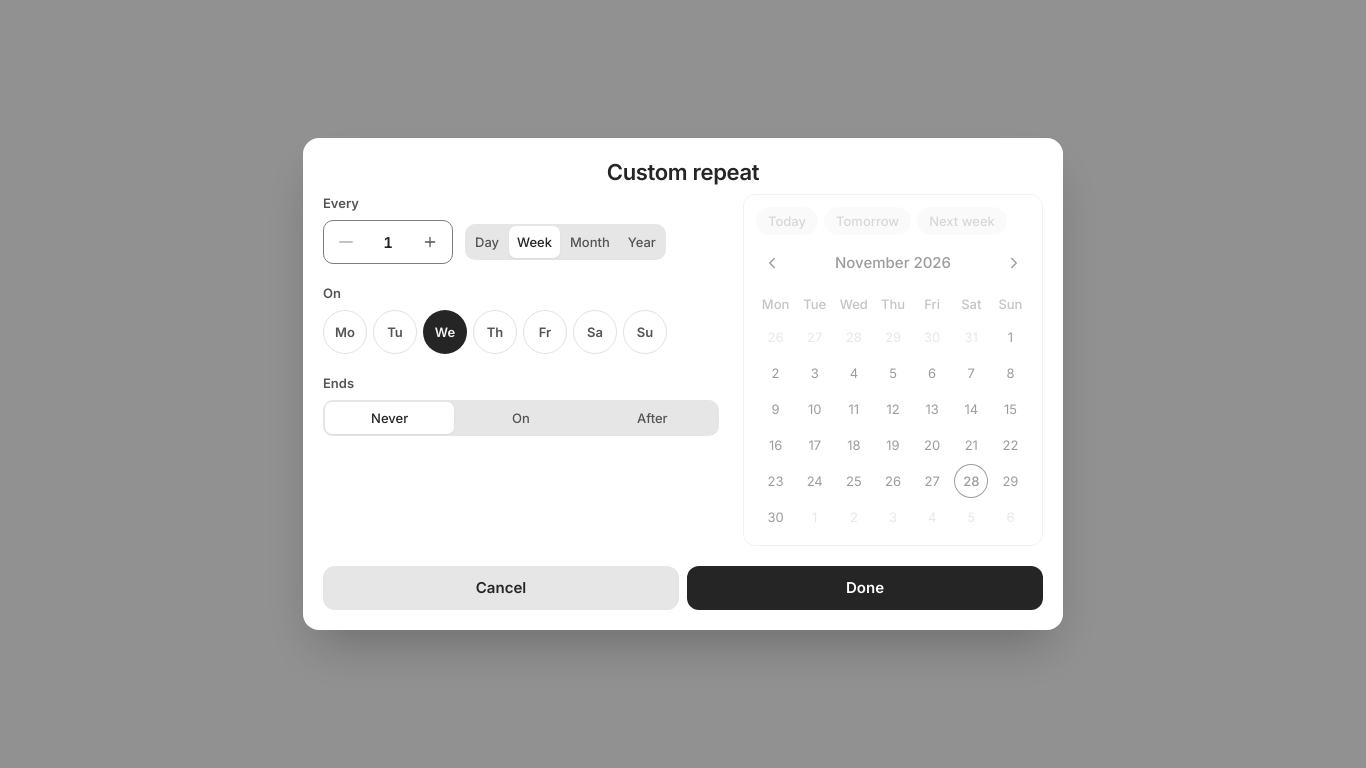
Scenario: Custom repeat dialog (#154) › Ends on (desktop): the calendar is always beside the rule, off until On
Expected: the cell "25" is disabled, left=838, top=465, right=870, bottom=497
Click the radio button labelled "On".
click(521, 418)  # box left=456, top=402, right=586, bottom=434
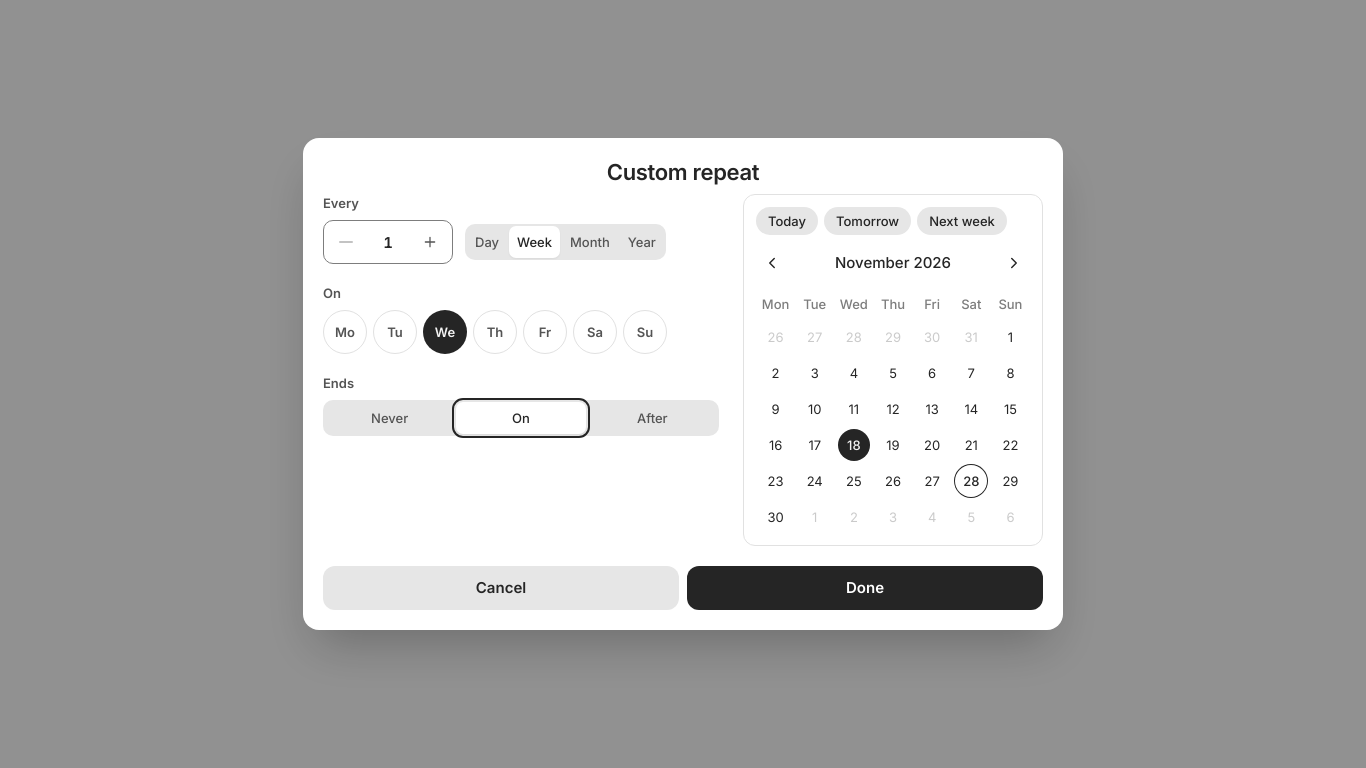
Result: the cell "25" is enabled at left=838, top=465, right=870, bottom=497
